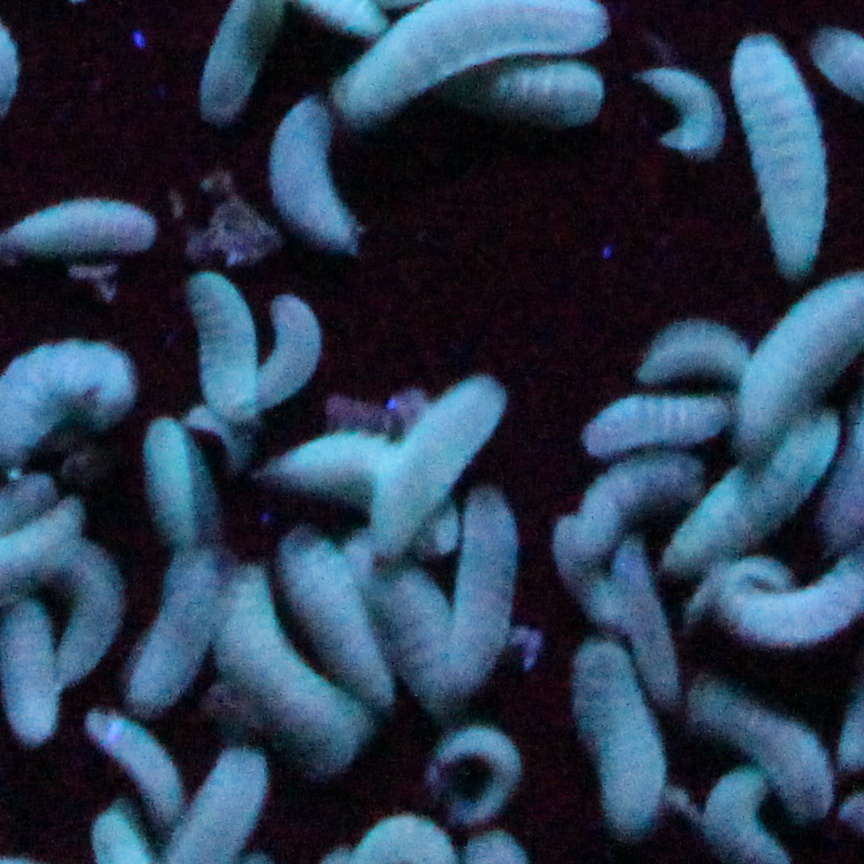larve: (209, 567, 374, 759), (718, 22, 835, 286), (549, 636, 692, 825), (372, 368, 513, 552), (684, 670, 835, 814), (264, 437, 461, 544), (120, 542, 237, 716), (264, 81, 366, 262), (560, 438, 709, 552), (567, 374, 743, 466), (68, 703, 194, 821), (182, 268, 274, 429), (623, 308, 762, 405), (230, 288, 331, 417), (137, 416, 210, 552), (631, 53, 730, 153)
